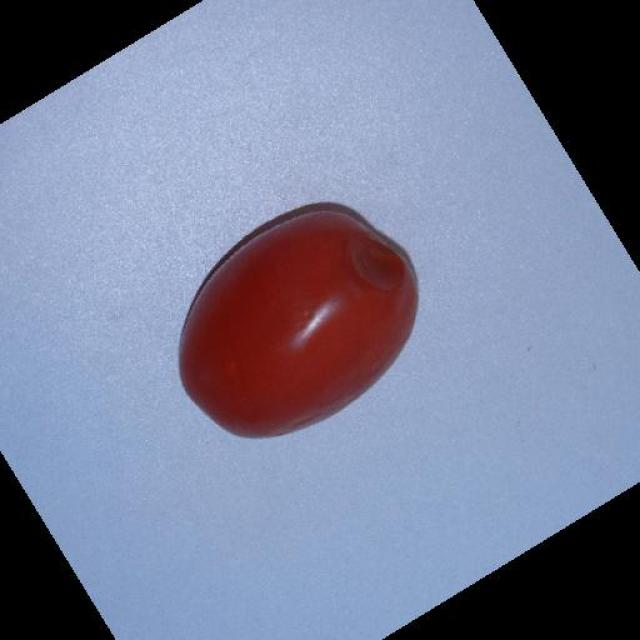Stale_tomato: (316, 226, 430, 312)
